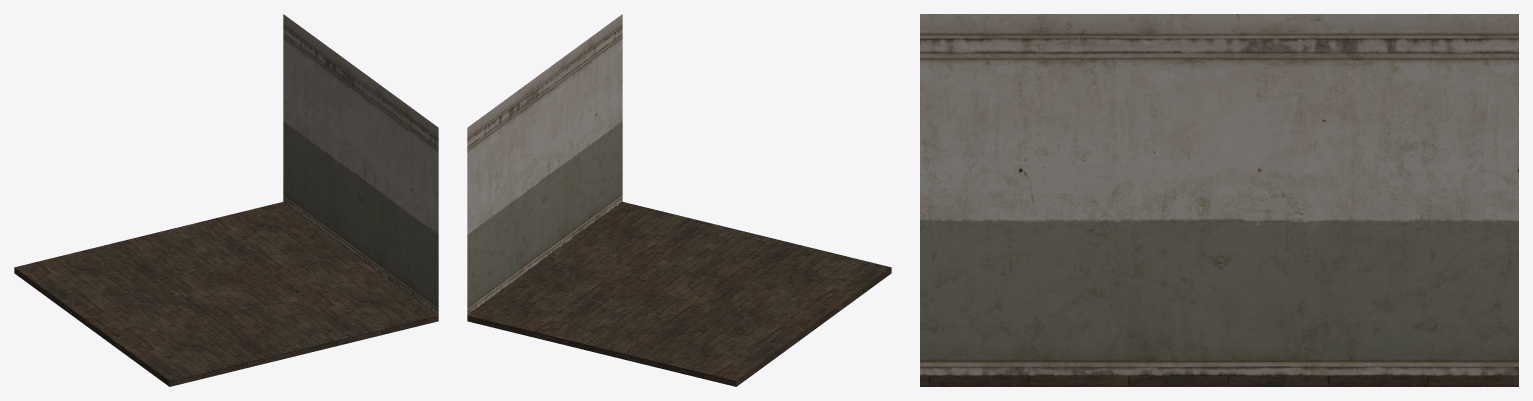
The model's file is hallway_oneside_left_6m.fbx.
3 renders of one model, left to right at view 1: azimuth 30°, elevation 25°; view 2: azimuth 150°, elevation 25°; view 3: azimuth 270°, elevation 25°, orthographic. The views are drawn at different scales.
Parts seen in each view (by area): view 1: hallway_oneside_left_6m; view 2: hallway_oneside_left_6m; view 3: hallway_oneside_left_6m.
Part boxes in pixels (x1=…): hallway_oneside_left_6m: x1=14, y1=14, x2=438, y2=386; hallway_oneside_left_6m: x1=467, y1=14, x2=891, y2=386; hallway_oneside_left_6m: x1=920, y1=14, x2=1518, y2=386.
Bounding box in the file's own units: 600 × 412 × 600.
